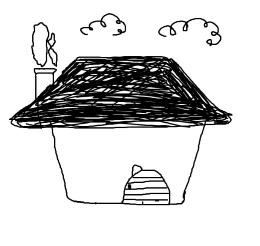clouds: (157, 17, 223, 48), (78, 12, 126, 36)
door: (117, 160, 173, 212)
shaded_roof: (6, 51, 236, 132)
smoking_chimney: (17, 19, 66, 99)
wall: (49, 120, 207, 209)
